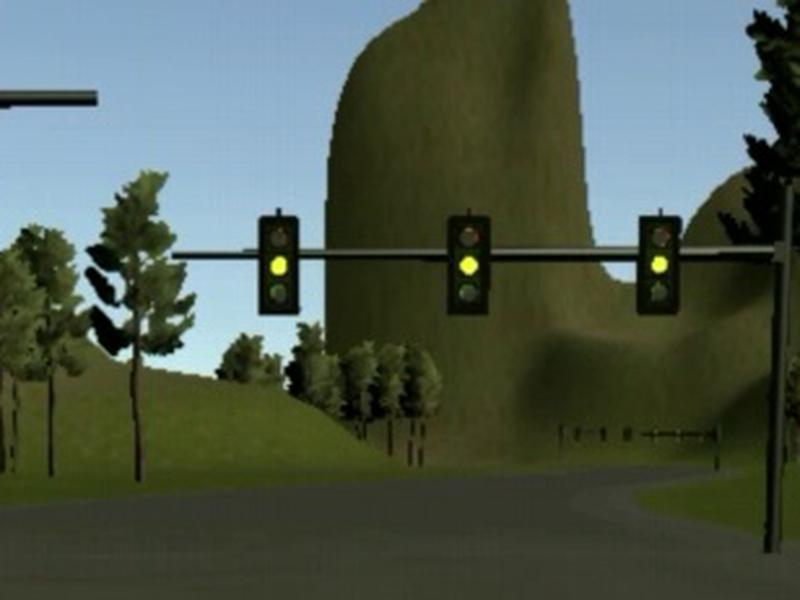Yellow: (637, 216, 682, 315), (447, 215, 491, 314), (257, 214, 299, 316)
